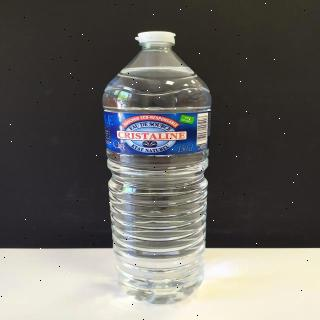Plastic-bottle: (99, 29, 219, 311)
